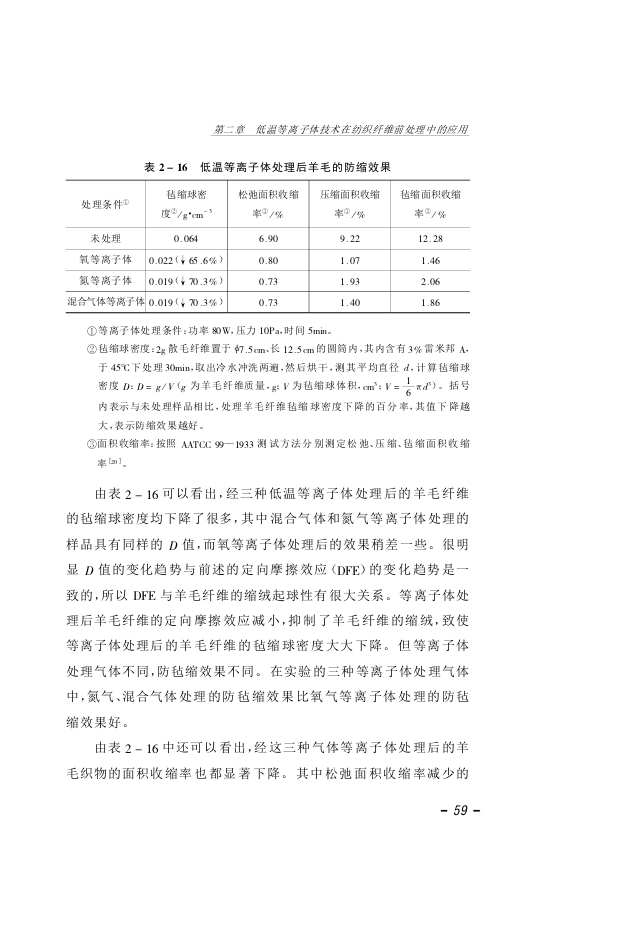table: (65, 179, 472, 313)
